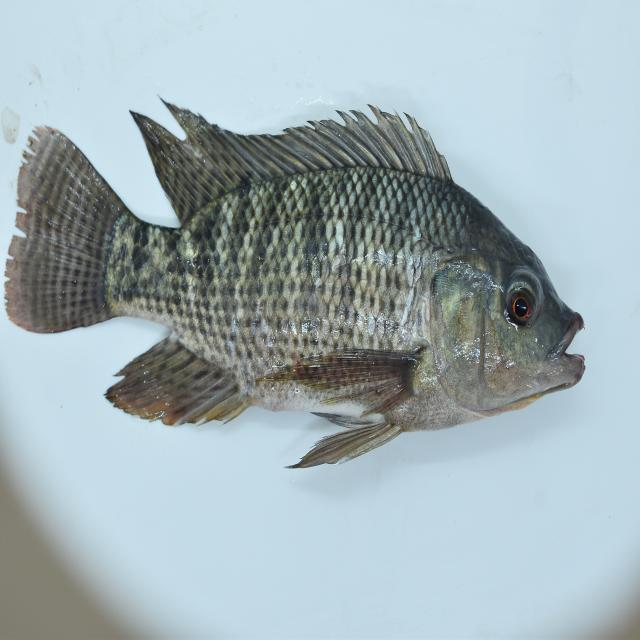Columnaris Disease: (2, 89, 596, 490)
